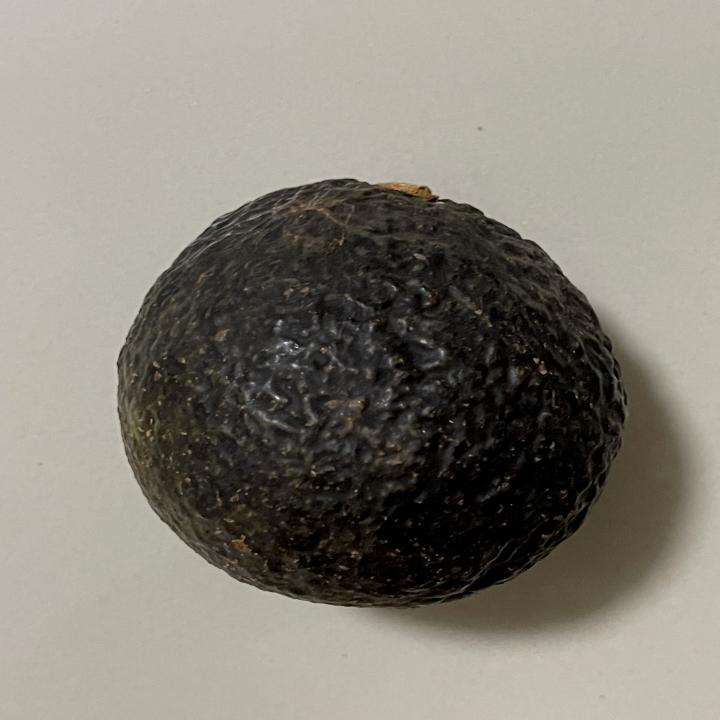Level1: (95, 162, 642, 622)
